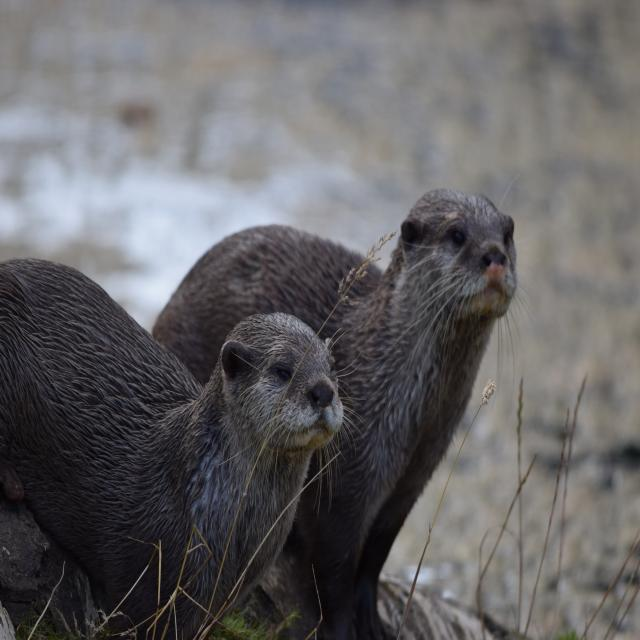otter: (151, 191, 517, 585), (1, 259, 346, 610)
